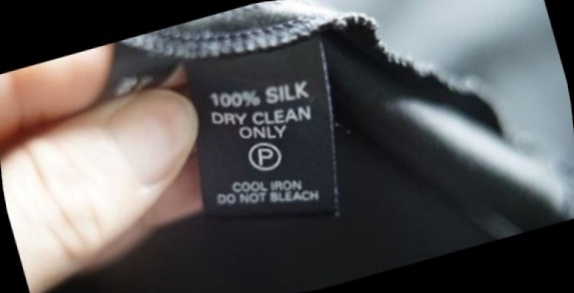dry_clean_any_solvent_except_trichloroethylene: (242, 133, 290, 178)
